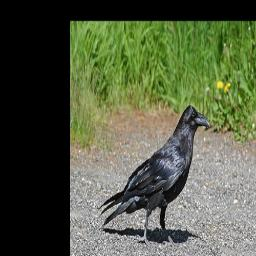Crow: (95, 105, 210, 250)
